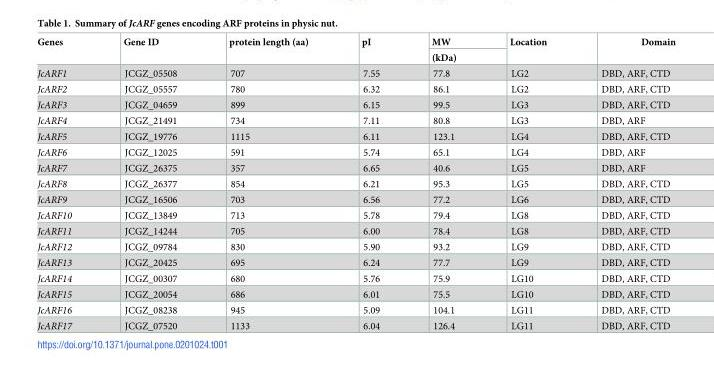table: (36, 36, 674, 331)
table column: (202, 36, 334, 331), (96, 36, 202, 331), (573, 36, 674, 331), (482, 36, 573, 331), (405, 36, 482, 331), (334, 36, 405, 331), (36, 36, 96, 331)
table column header: (36, 36, 674, 64)
table row: (36, 64, 674, 80), (36, 80, 674, 96), (36, 96, 674, 112), (36, 112, 674, 128), (36, 143, 674, 159), (36, 159, 674, 175), (36, 175, 674, 191), (36, 191, 674, 207), (36, 222, 674, 238), (36, 238, 674, 254), (36, 254, 674, 270), (36, 285, 674, 301), (36, 301, 674, 317), (36, 49, 674, 64), (36, 128, 674, 143), (36, 207, 674, 222), (36, 270, 674, 285), (36, 317, 674, 331), (36, 36, 674, 49)
table spanning cell: (202, 36, 334, 64), (96, 36, 202, 64), (573, 36, 674, 64), (482, 36, 573, 64), (405, 36, 482, 64), (334, 36, 405, 64), (36, 36, 96, 64)
